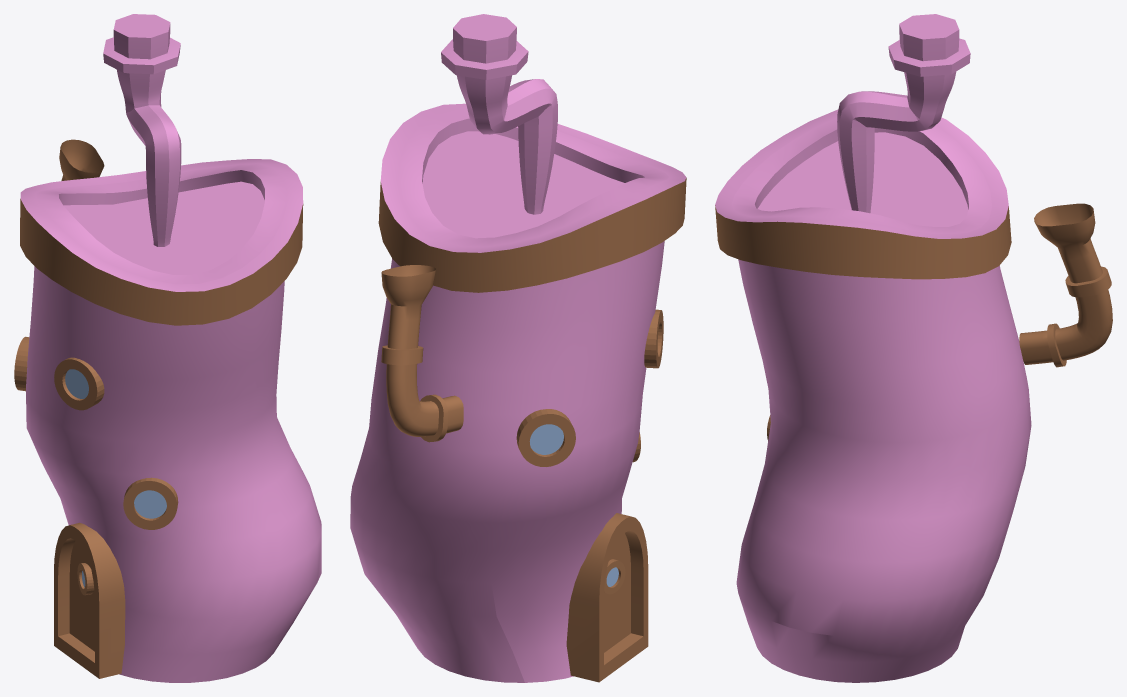
The model's file is Mofle_Rosa.fbx.
3 views of the same model, side by side, from view 1: azimuth 30°, elevation 25°; view 2: azimuth 150°, elevation 25°; view 3: azimuth 270°, elevation 25° (orthographic). The views are drawn at different scales.
Parts seen in each view (by area): view 1: Circle.007; view 2: Circle.007; view 3: Circle.007.
Part boxes in pixels (x1,y1,x2,y2): Circle.007: (14,14,321,682); Circle.007: (350,14,686,682); Circle.007: (715,14,1112,682).
Size of the model in its own units: 11.54 by 24.04 by 14.16.
